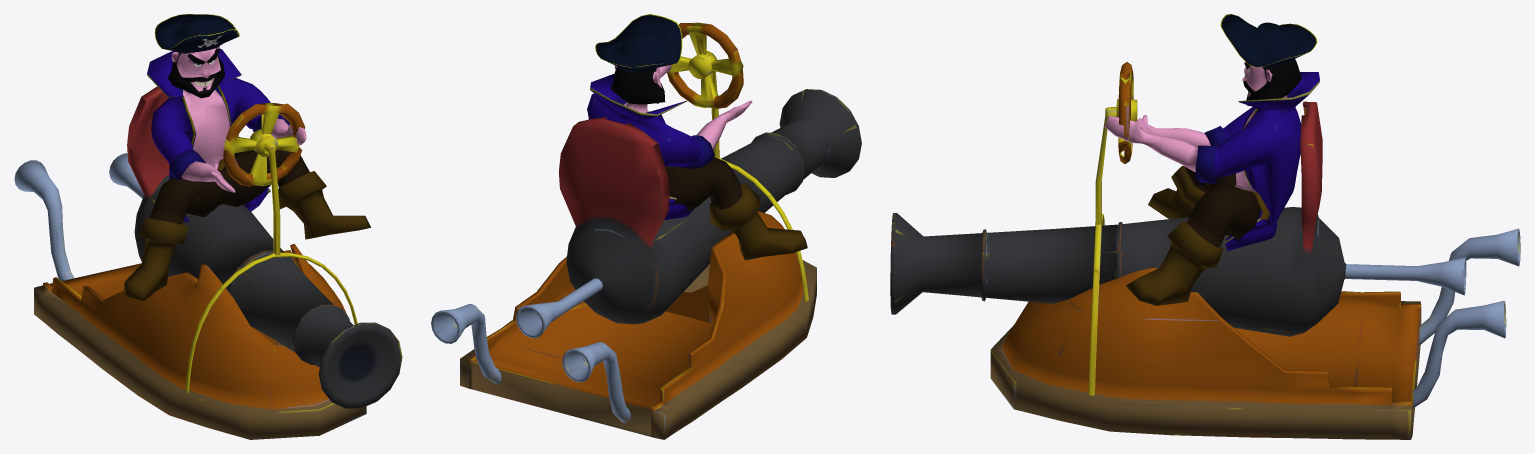
File: pirataGiroDer_000183.obj
The picture shows the model from 3 angles, left to right: view 1: azimuth 30°, elevation 25°; view 2: azimuth 150°, elevation 25°; view 3: azimuth 270°, elevation 25°; orthographic projection. The views are drawn at different scales.
Visible parts, largest first — view 1: carro_pirata, Pirata_PirataH_Pirata_PirataH.001; view 2: carro_pirata, Pirata_PirataH_Pirata_PirataH.001; view 3: carro_pirata, Pirata_PirataH_Pirata_PirataH.001.
Boxes of the visible parts, x1,y1,x2,y2 form: carro_pirata: (14, 86, 402, 439); Pirata_PirataH_Pirata_PirataH.001: (124, 14, 370, 300); carro_pirata: (431, 22, 861, 439); Pirata_PirataH_Pirata_PirataH.001: (587, 14, 807, 260); carro_pirata: (890, 62, 1520, 439); Pirata_PirataH_Pirata_PirataH.001: (1104, 14, 1319, 305).
Bounding box in the file's own units: 5.68 × 7.56 × 12.1.
2 materials, 2 textured.
